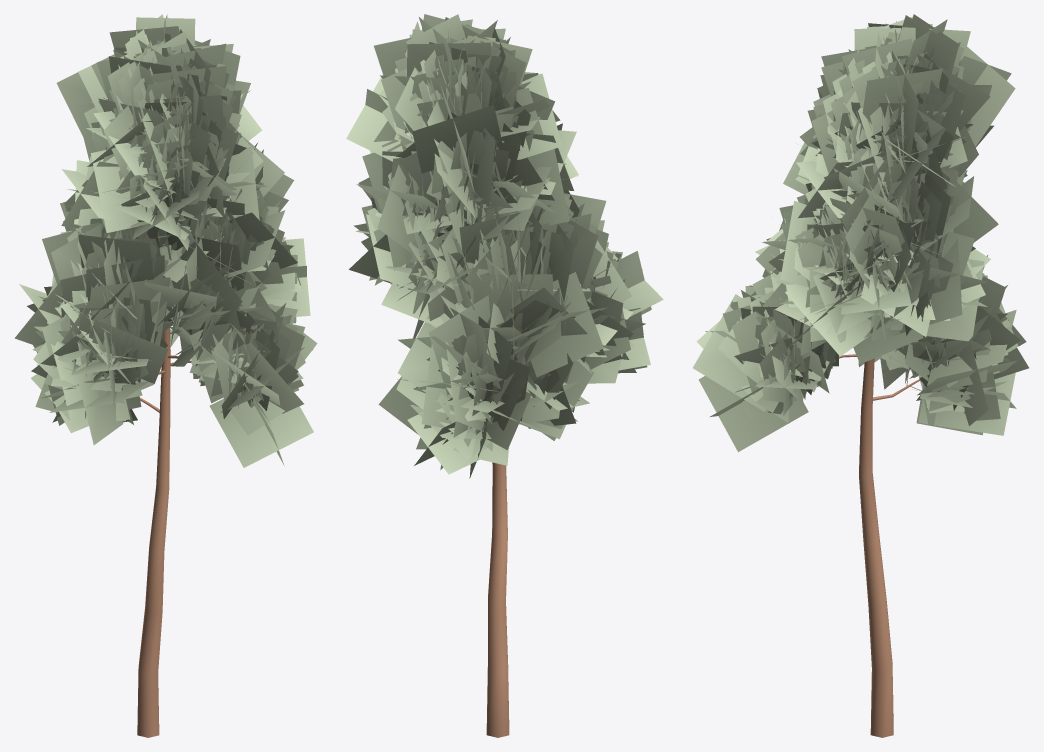
The model's file is akamatsu.glb.
The picture shows the model from 3 angles, left to right: view 1: azimuth 30°, elevation 25°; view 2: azimuth 150°, elevation 25°; view 3: azimuth 270°, elevation 25°; orthographic projection. The views are drawn at different scales.
Size of the model in its own units: 7.89 by 20 by 8.35.
